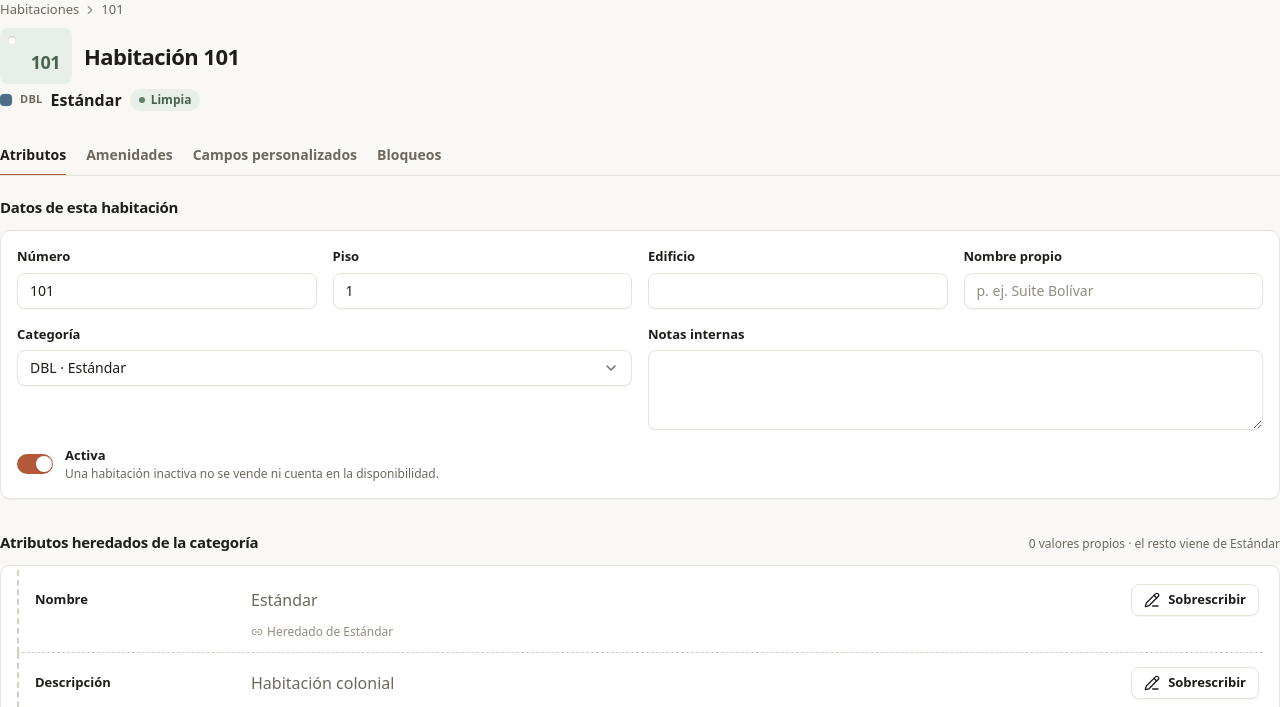
Test: RoomEditorPage › shows a server error of a custom field next to it, on its tab
Replace the text in the field labelled "Piso" with "2" at [482, 290], box [332,272,632,308]
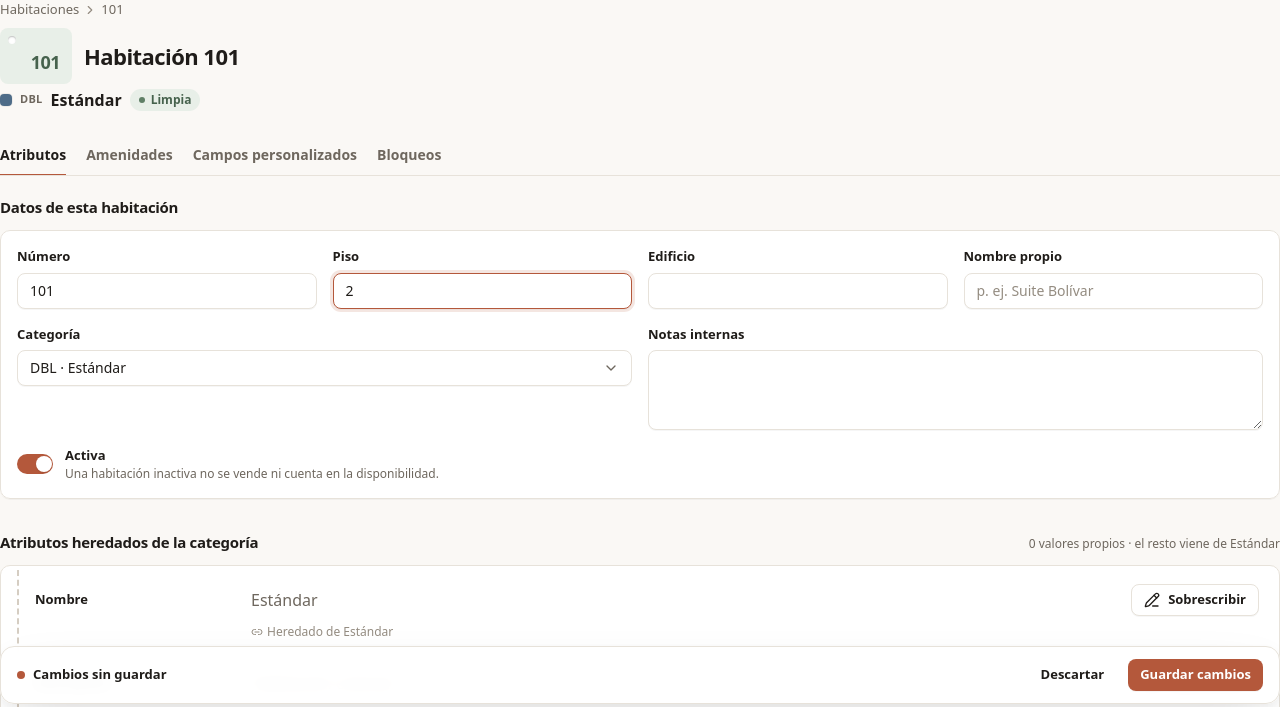
Click the button "Guardar cambios" at [1196, 675], box [1128,659,1263,691]
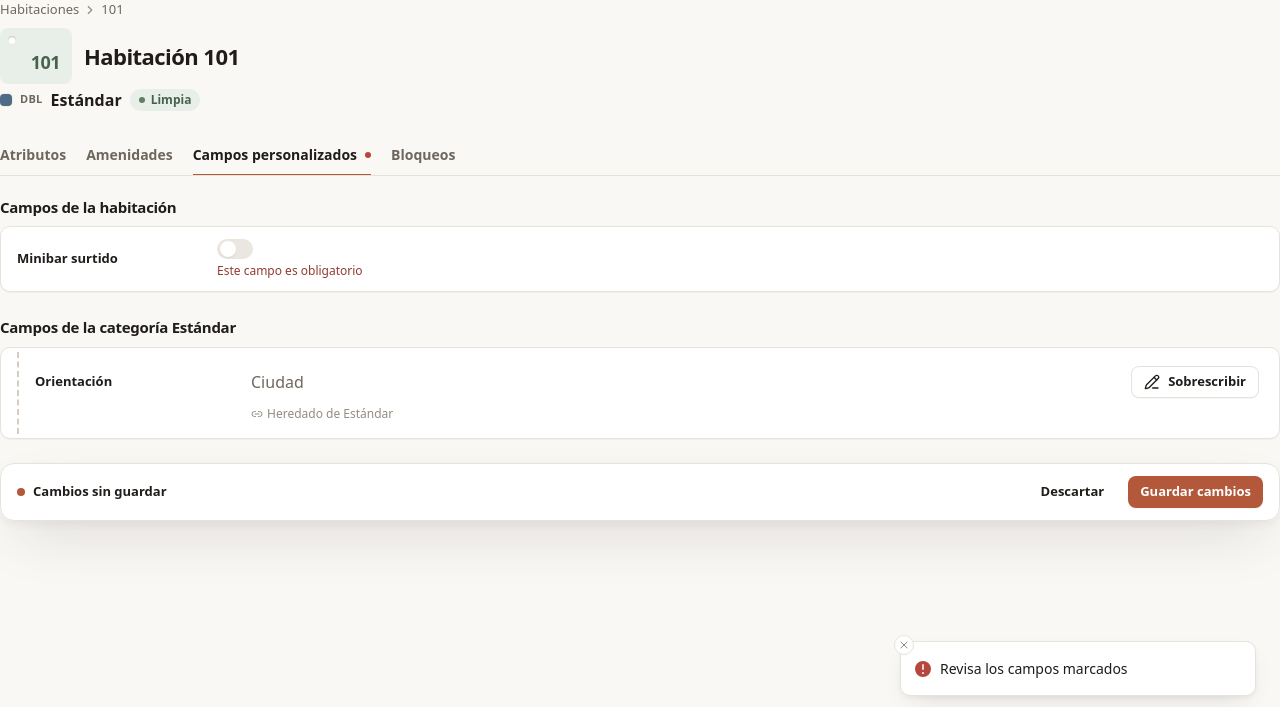
Check: the tab named "Campos personalizados, con errores" is shown, box [193,136,371,176]
Check: the text "Este campo es obligatorio" is shown, box [217,262,363,279]
